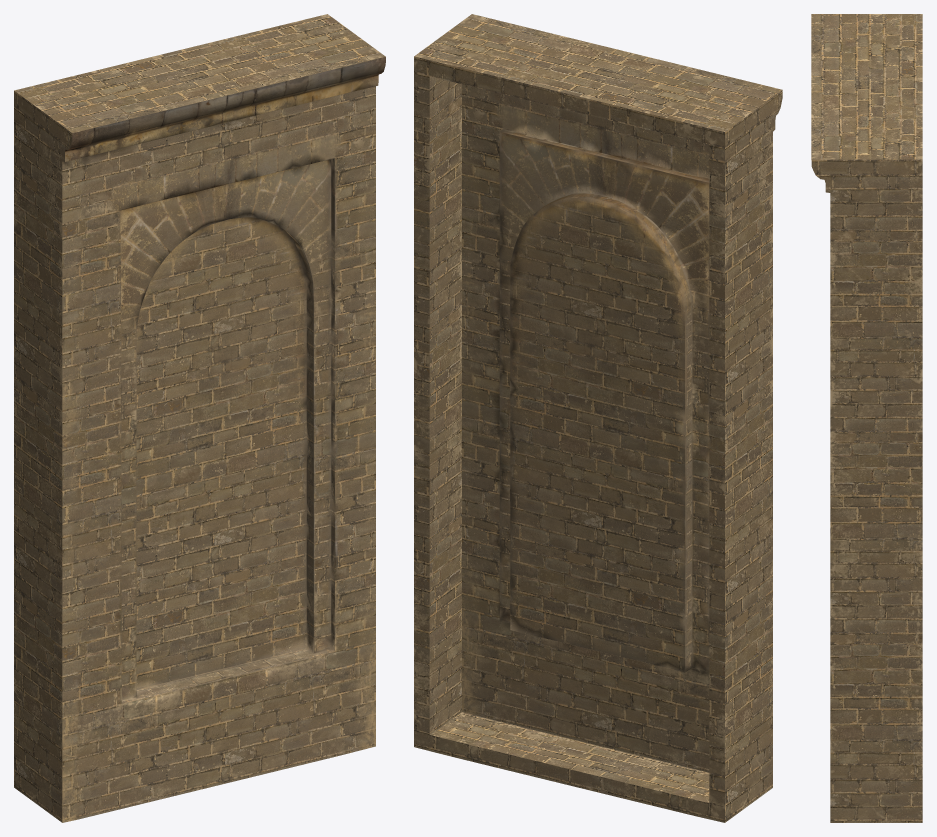
File: ventanas.fbx
3 views of the same model, side by side, from view 1: azimuth 30°, elevation 25°; view 2: azimuth 150°, elevation 25°; view 3: azimuth 270°, elevation 25° (orthographic). The views are drawn at different scales.
Visible parts, largest first — view 1: Aset_building__M_wmfhaejdw_00_LOD0.001; view 2: Aset_building__M_wmfhaejdw_00_LOD0.001; view 3: Aset_building__M_wmfhaejdw_00_LOD0.001.
Boxes of the visible parts, x1,y1,x2,y2 form: Aset_building__M_wmfhaejdw_00_LOD0.001: [14, 14, 385, 822]; Aset_building__M_wmfhaejdw_00_LOD0.001: [414, 14, 782, 822]; Aset_building__M_wmfhaejdw_00_LOD0.001: [811, 14, 922, 822].
Size of the model in its own units: 200 by 425 by 64.5.
